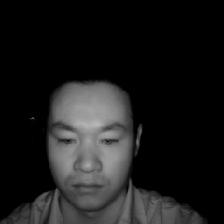normal: (32, 73, 155, 211)
